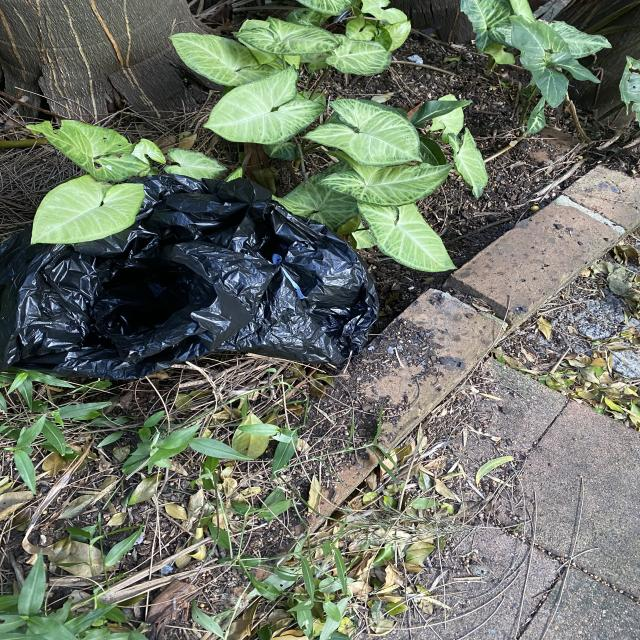bag: (2, 176, 379, 386)
